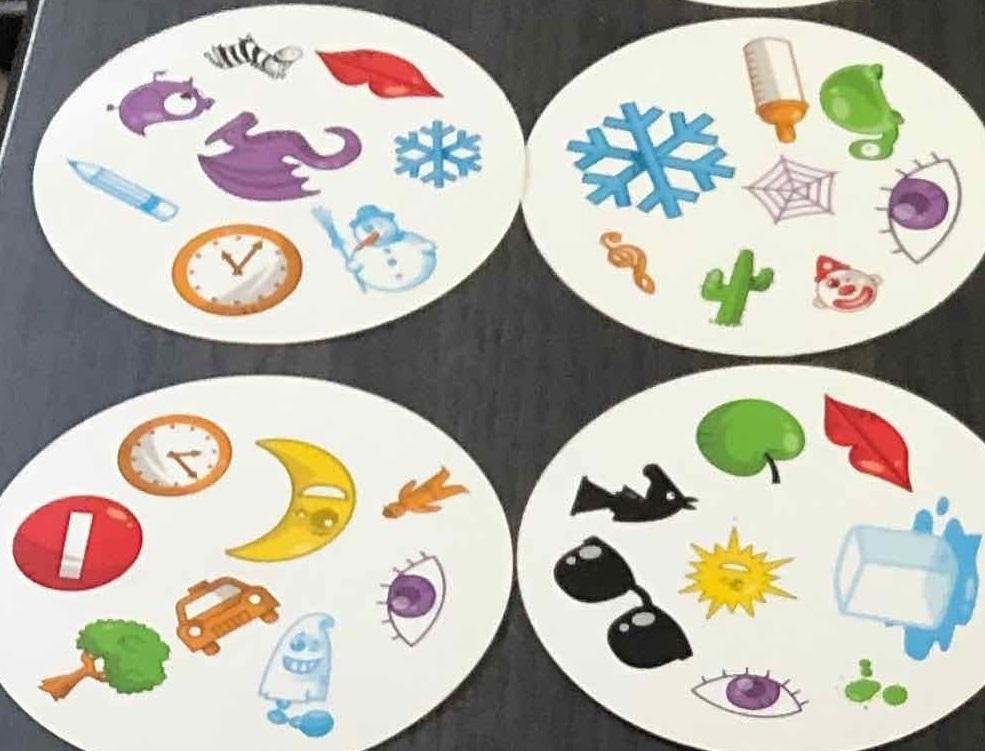arbre: (35, 616, 172, 709)
biberon: (736, 29, 816, 149)
bonhomme: (376, 456, 476, 525)
bonhomme_neige: (306, 200, 442, 301)
bouche: (813, 389, 926, 495), (307, 42, 445, 105)
cactus: (695, 246, 783, 331)
cheval: (563, 455, 701, 529)
clown: (808, 247, 884, 320)
crayon: (71, 156, 183, 221)
dragon: (196, 109, 363, 204)
fantome: (239, 602, 359, 743)
flocon: (562, 98, 746, 223), (388, 119, 498, 192)
glacon: (825, 495, 985, 663)
horloge: (170, 220, 304, 318), (108, 407, 239, 499)
lune: (219, 433, 362, 561)
lunette: (548, 530, 697, 672)
note: (588, 226, 668, 299)
oeuil: (868, 151, 966, 268), (373, 546, 450, 653), (683, 663, 814, 720)
oiseau: (100, 69, 217, 141)
pomme: (685, 395, 810, 487)
sens_interdit: (11, 494, 145, 590)
soleil: (677, 526, 801, 626)
tache: (837, 655, 912, 711)
toile: (742, 148, 840, 231)
tortue: (813, 57, 910, 160)
voiture: (161, 569, 287, 659)
zebre: (197, 33, 305, 85)
